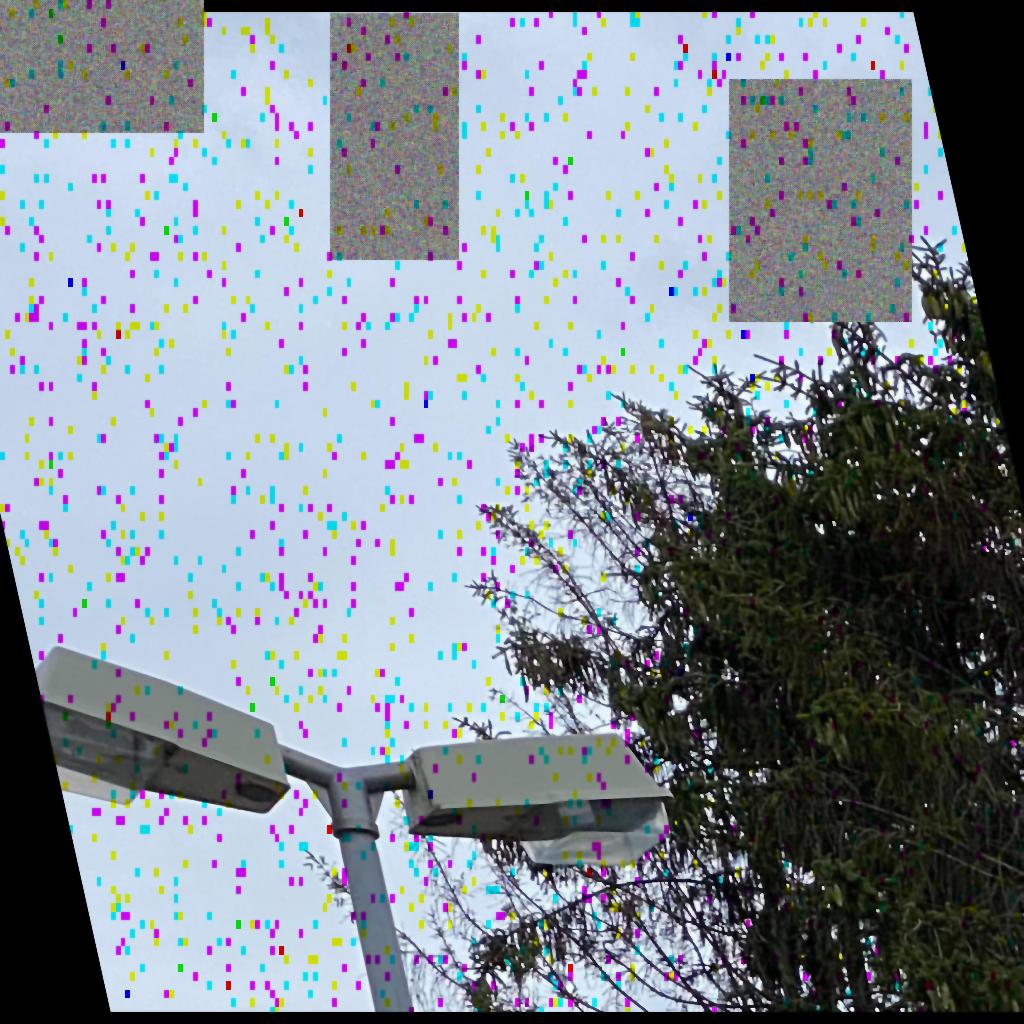tree: (306, 234, 1023, 1011)
